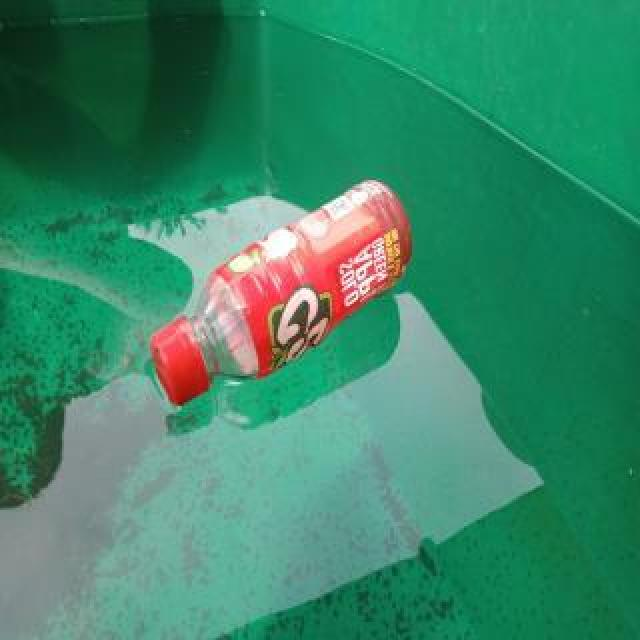Bottle: (142, 172, 418, 414)
